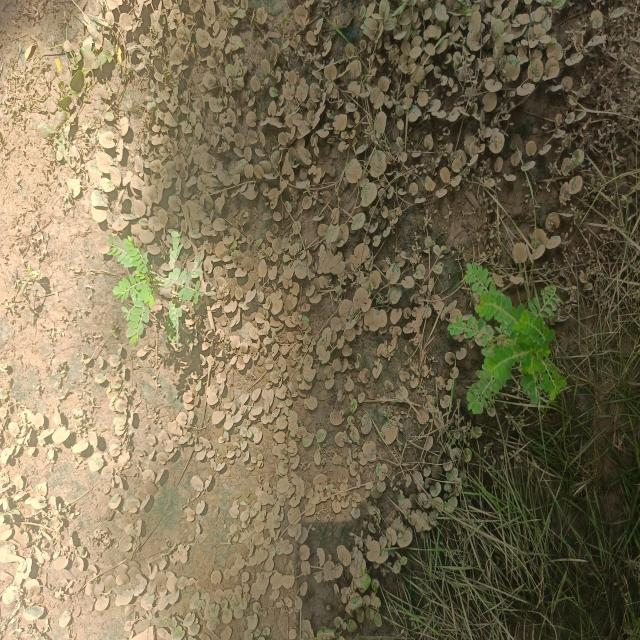weed: (443, 252, 571, 421), (110, 228, 212, 353)
